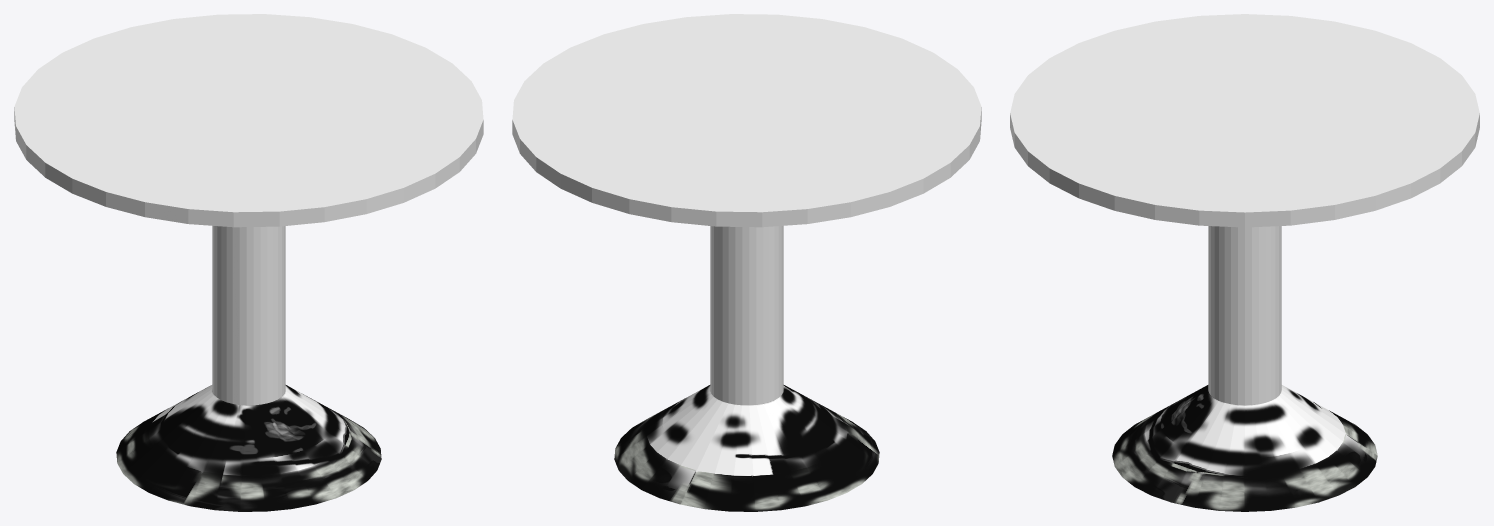
The model's file is table.glb.
The picture shows the model from 3 angles, left to right: view 1: azimuth 30°, elevation 25°; view 2: azimuth 150°, elevation 25°; view 3: azimuth 270°, elevation 25°; orthographic projection.
Visible parts, largest first — view 1: Cylinder; view 2: Cylinder; view 3: Cylinder.
Part boxes in pixels (x1,y1,x2,y2): Cylinder: (14,14,483,511); Cylinder: (512,14,981,511); Cylinder: (1010,14,1479,511).
Size of the model in its own units: 12.91 by 10.39 by 12.91.
3 materials, 1 textured.
